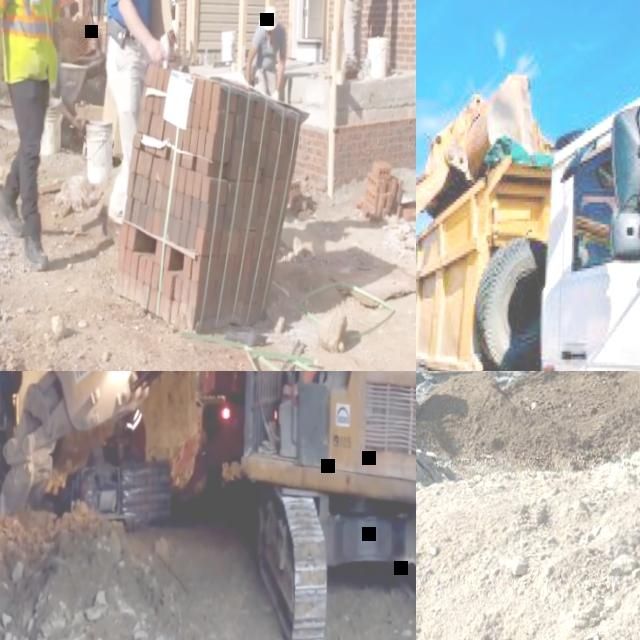Hardhat: (263, 3, 278, 30), (171, 20, 182, 41)
NO-Mask: (266, 35, 273, 46)
NO-Safety Vest: (107, 0, 153, 40), (257, 27, 283, 77), (161, 33, 173, 67)
Person: (0, 0, 64, 271), (99, 0, 169, 244), (246, 3, 289, 104), (340, 0, 369, 77), (160, 19, 182, 65), (53, 0, 72, 15)
Safety Vest: (0, 0, 56, 84), (304, 371, 322, 383)
machinery: (0, 371, 416, 640), (416, 47, 640, 371), (416, 62, 552, 371)
